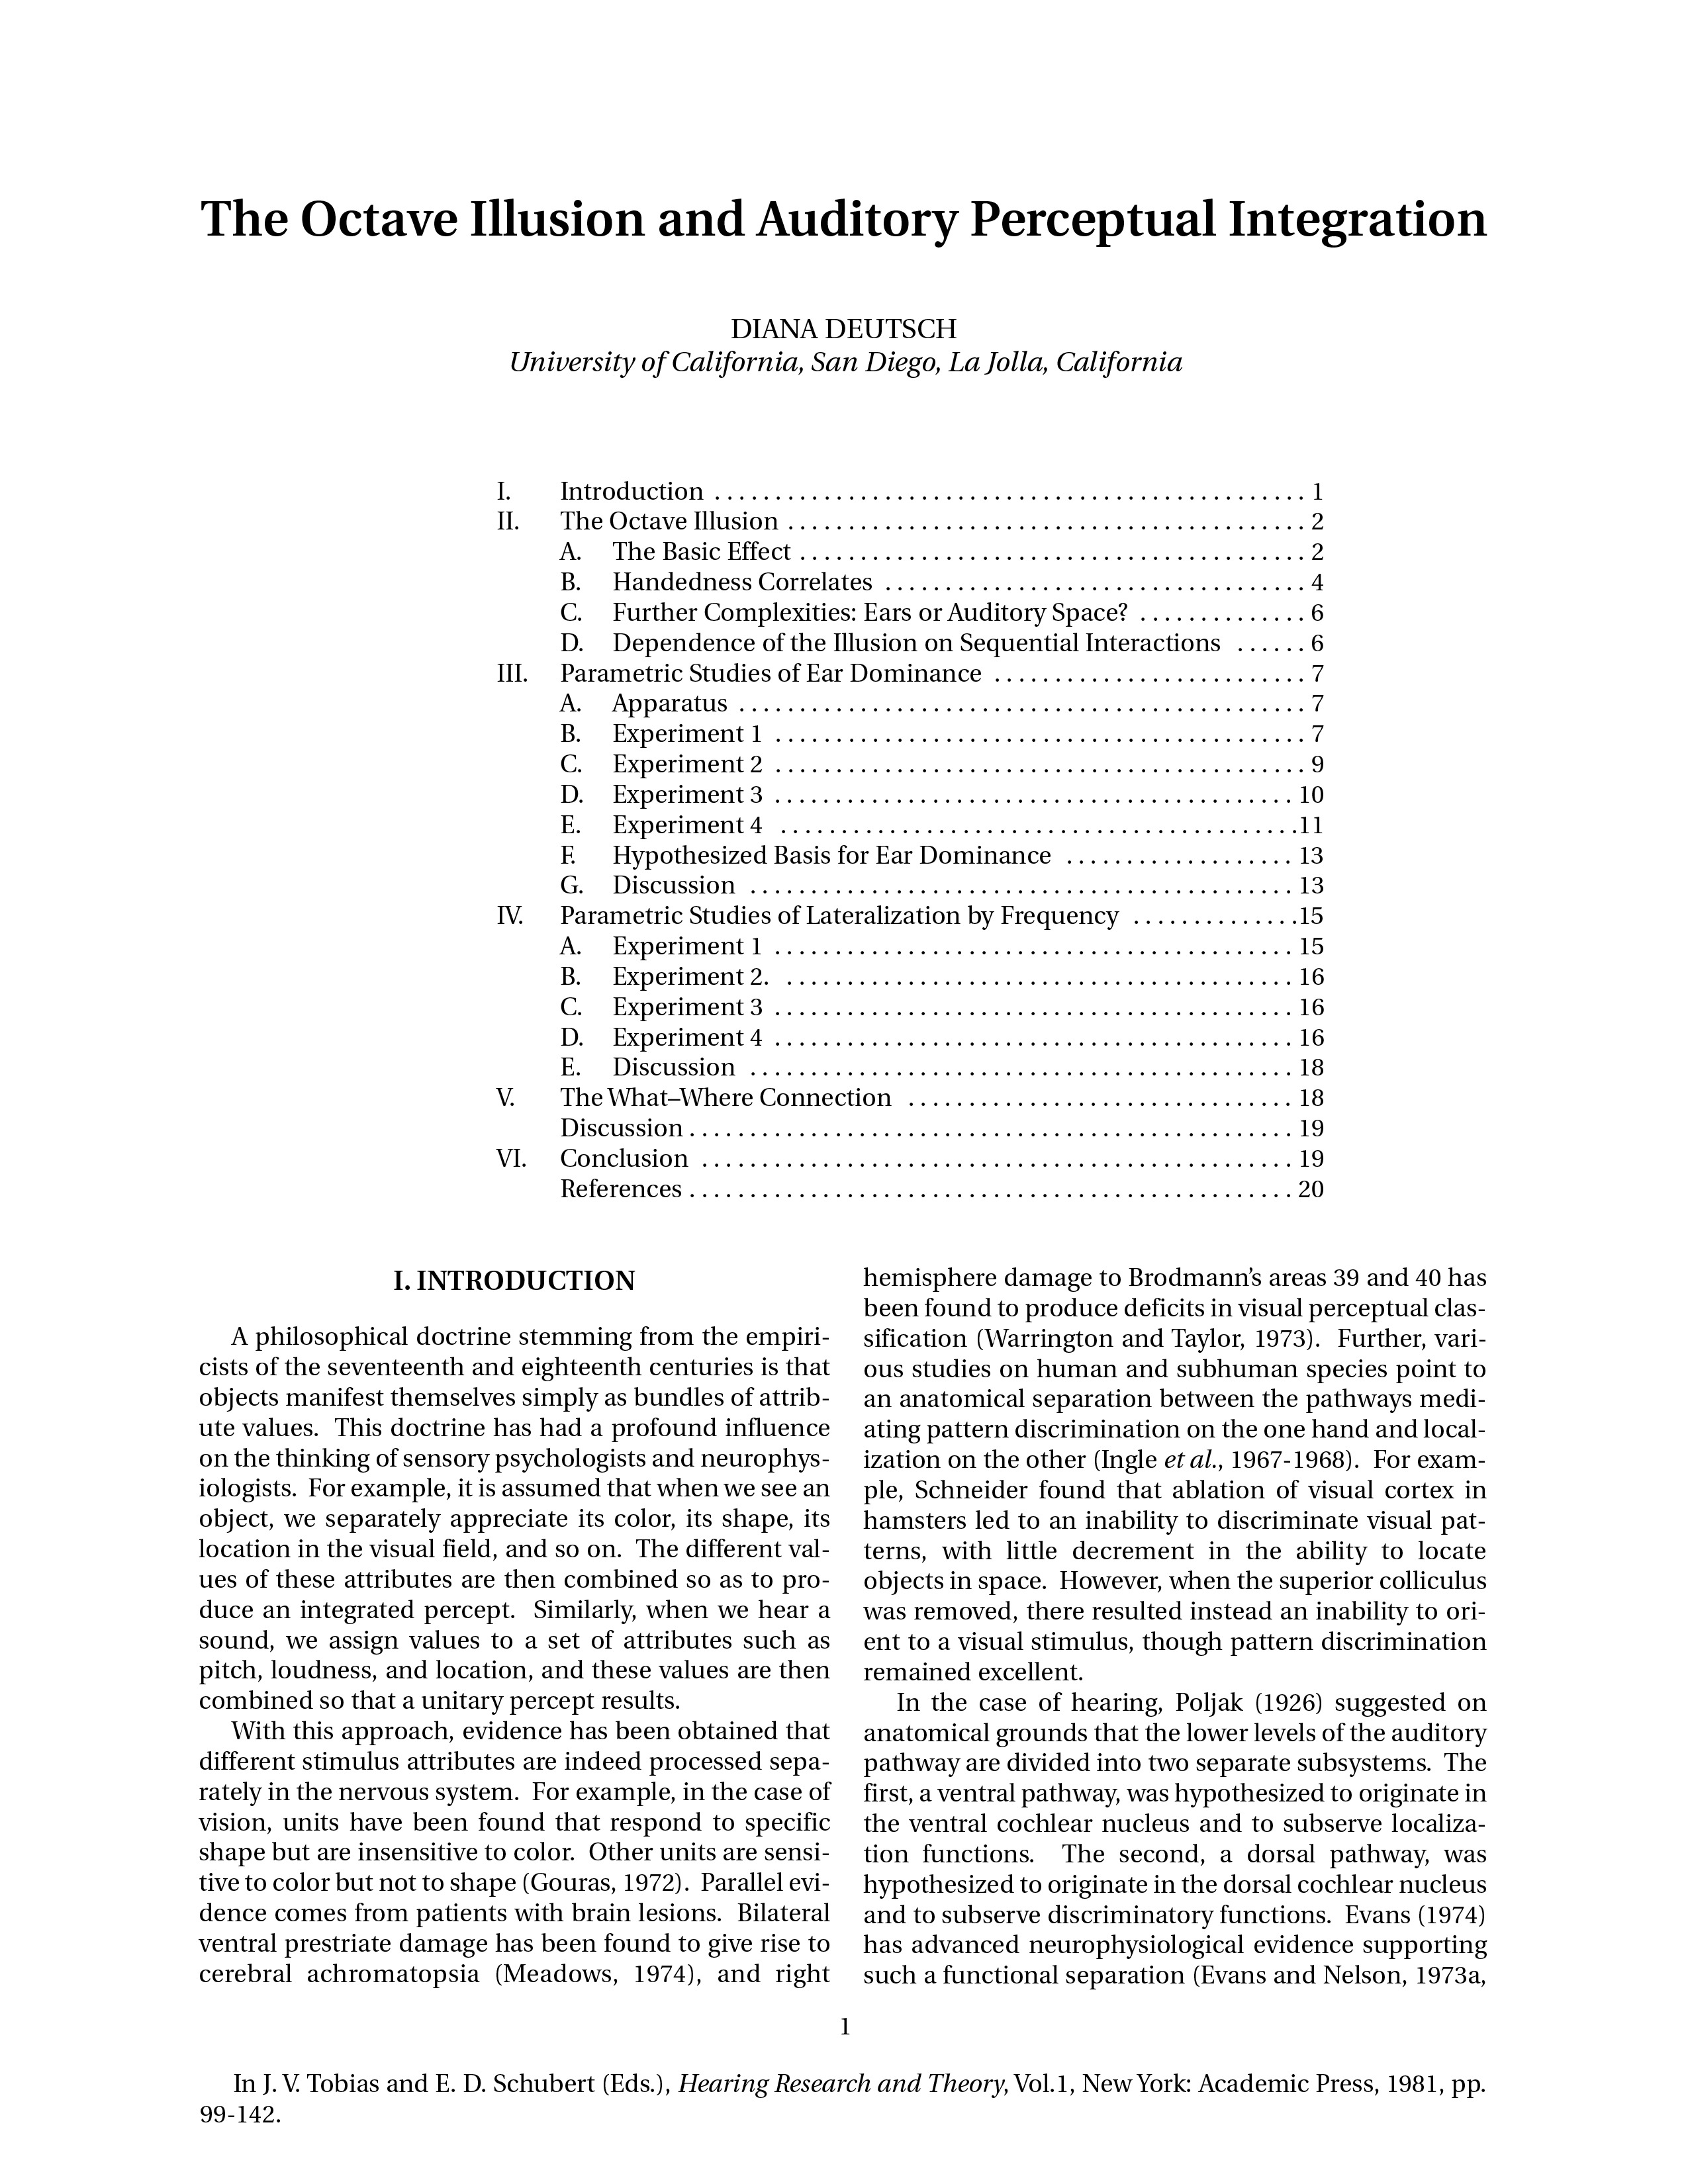section: (193, 186, 1505, 273), (493, 316, 1186, 390), (376, 1248, 629, 1308)
table: (475, 473, 1335, 1221)
text: (860, 1262, 1498, 1688), (190, 1331, 830, 1718), (862, 1702, 1502, 2003), (190, 1718, 833, 1998)
